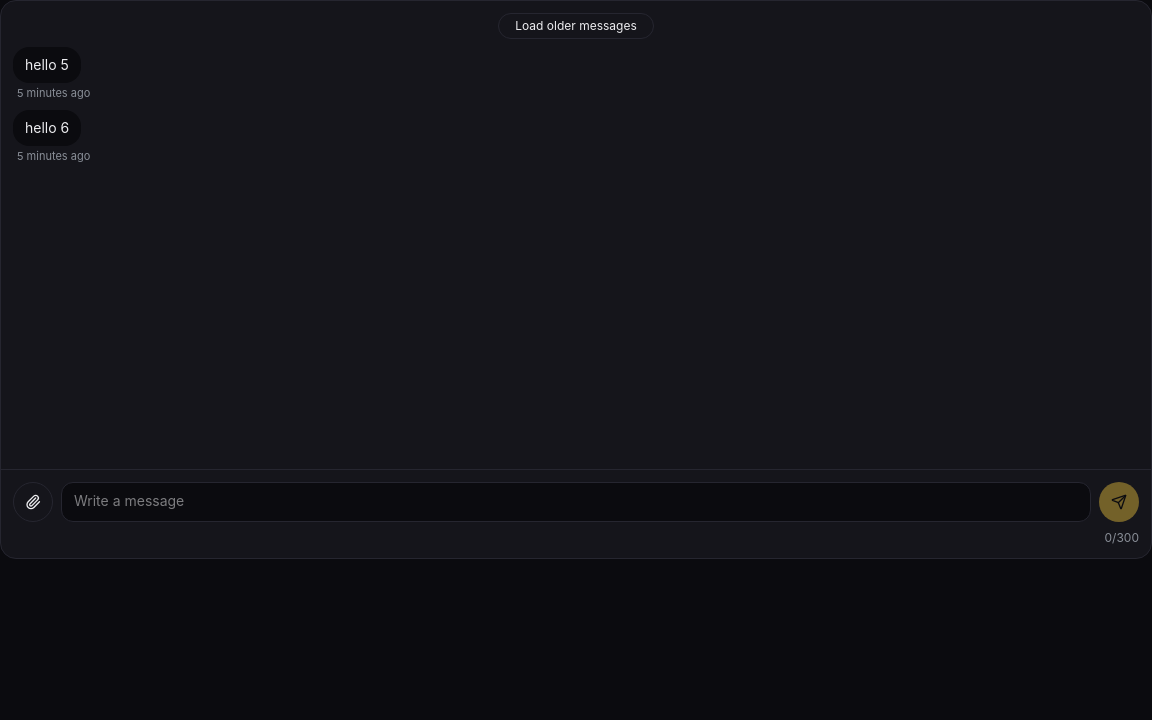
direct messages › loads older messages with p_before
Click the button "Load older messages" at (576, 26), box [498,13,654,39]
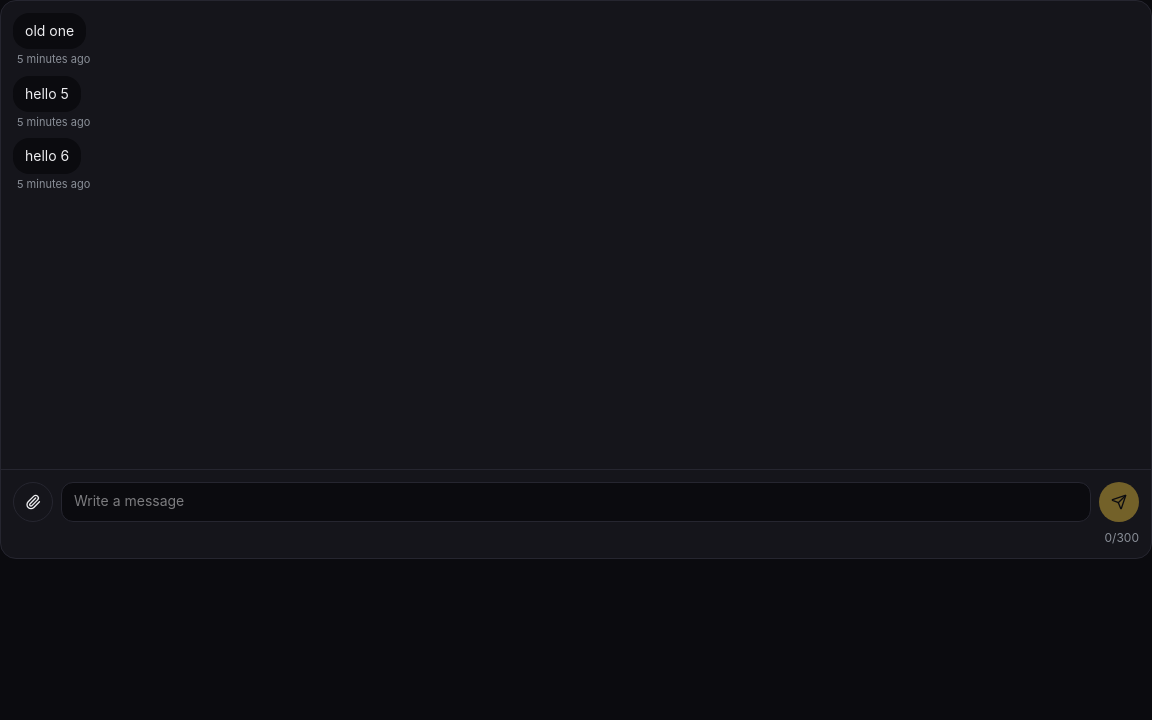
Check: the text "old one" is shown, box [25,21,74,41]
